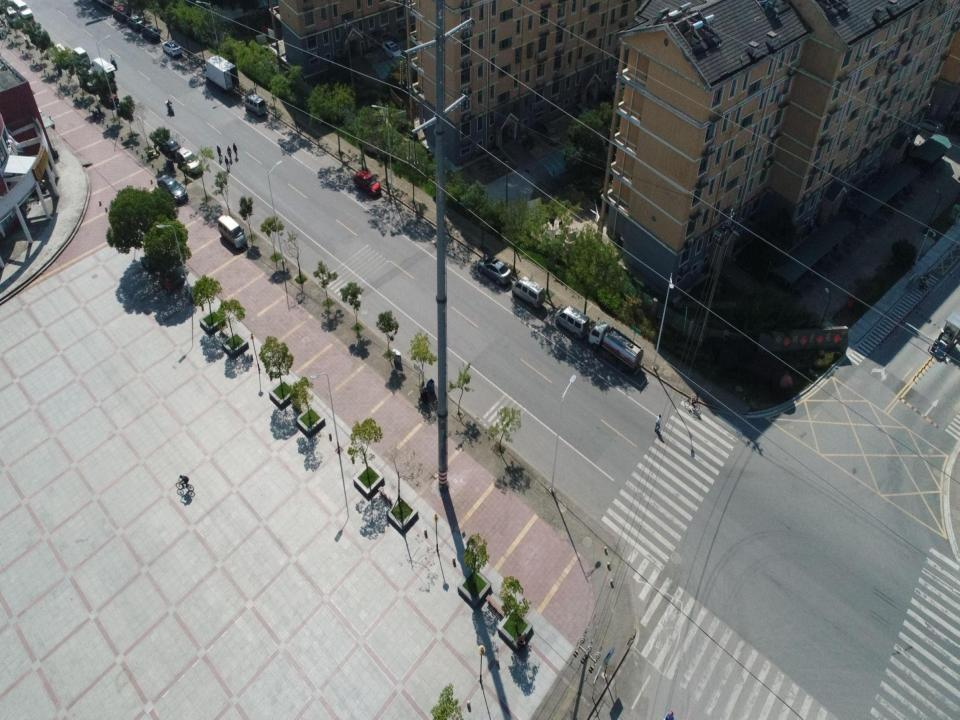car: (477, 255, 512, 287), (157, 172, 188, 204), (353, 168, 382, 198), (176, 146, 202, 175), (535, 117, 561, 145), (154, 130, 181, 156), (77, 68, 97, 94), (381, 38, 403, 60), (919, 117, 944, 136), (98, 86, 119, 108), (52, 43, 70, 67), (162, 39, 182, 58), (141, 25, 161, 44), (6, 4, 20, 29), (127, 14, 142, 29), (111, 4, 125, 19)
truck: (588, 316, 644, 376), (202, 54, 240, 94)
van: (554, 305, 590, 340), (511, 275, 546, 310), (217, 213, 248, 249), (91, 56, 116, 82), (244, 93, 267, 117), (11, 0, 34, 21), (572, 101, 592, 121), (72, 46, 90, 68)
